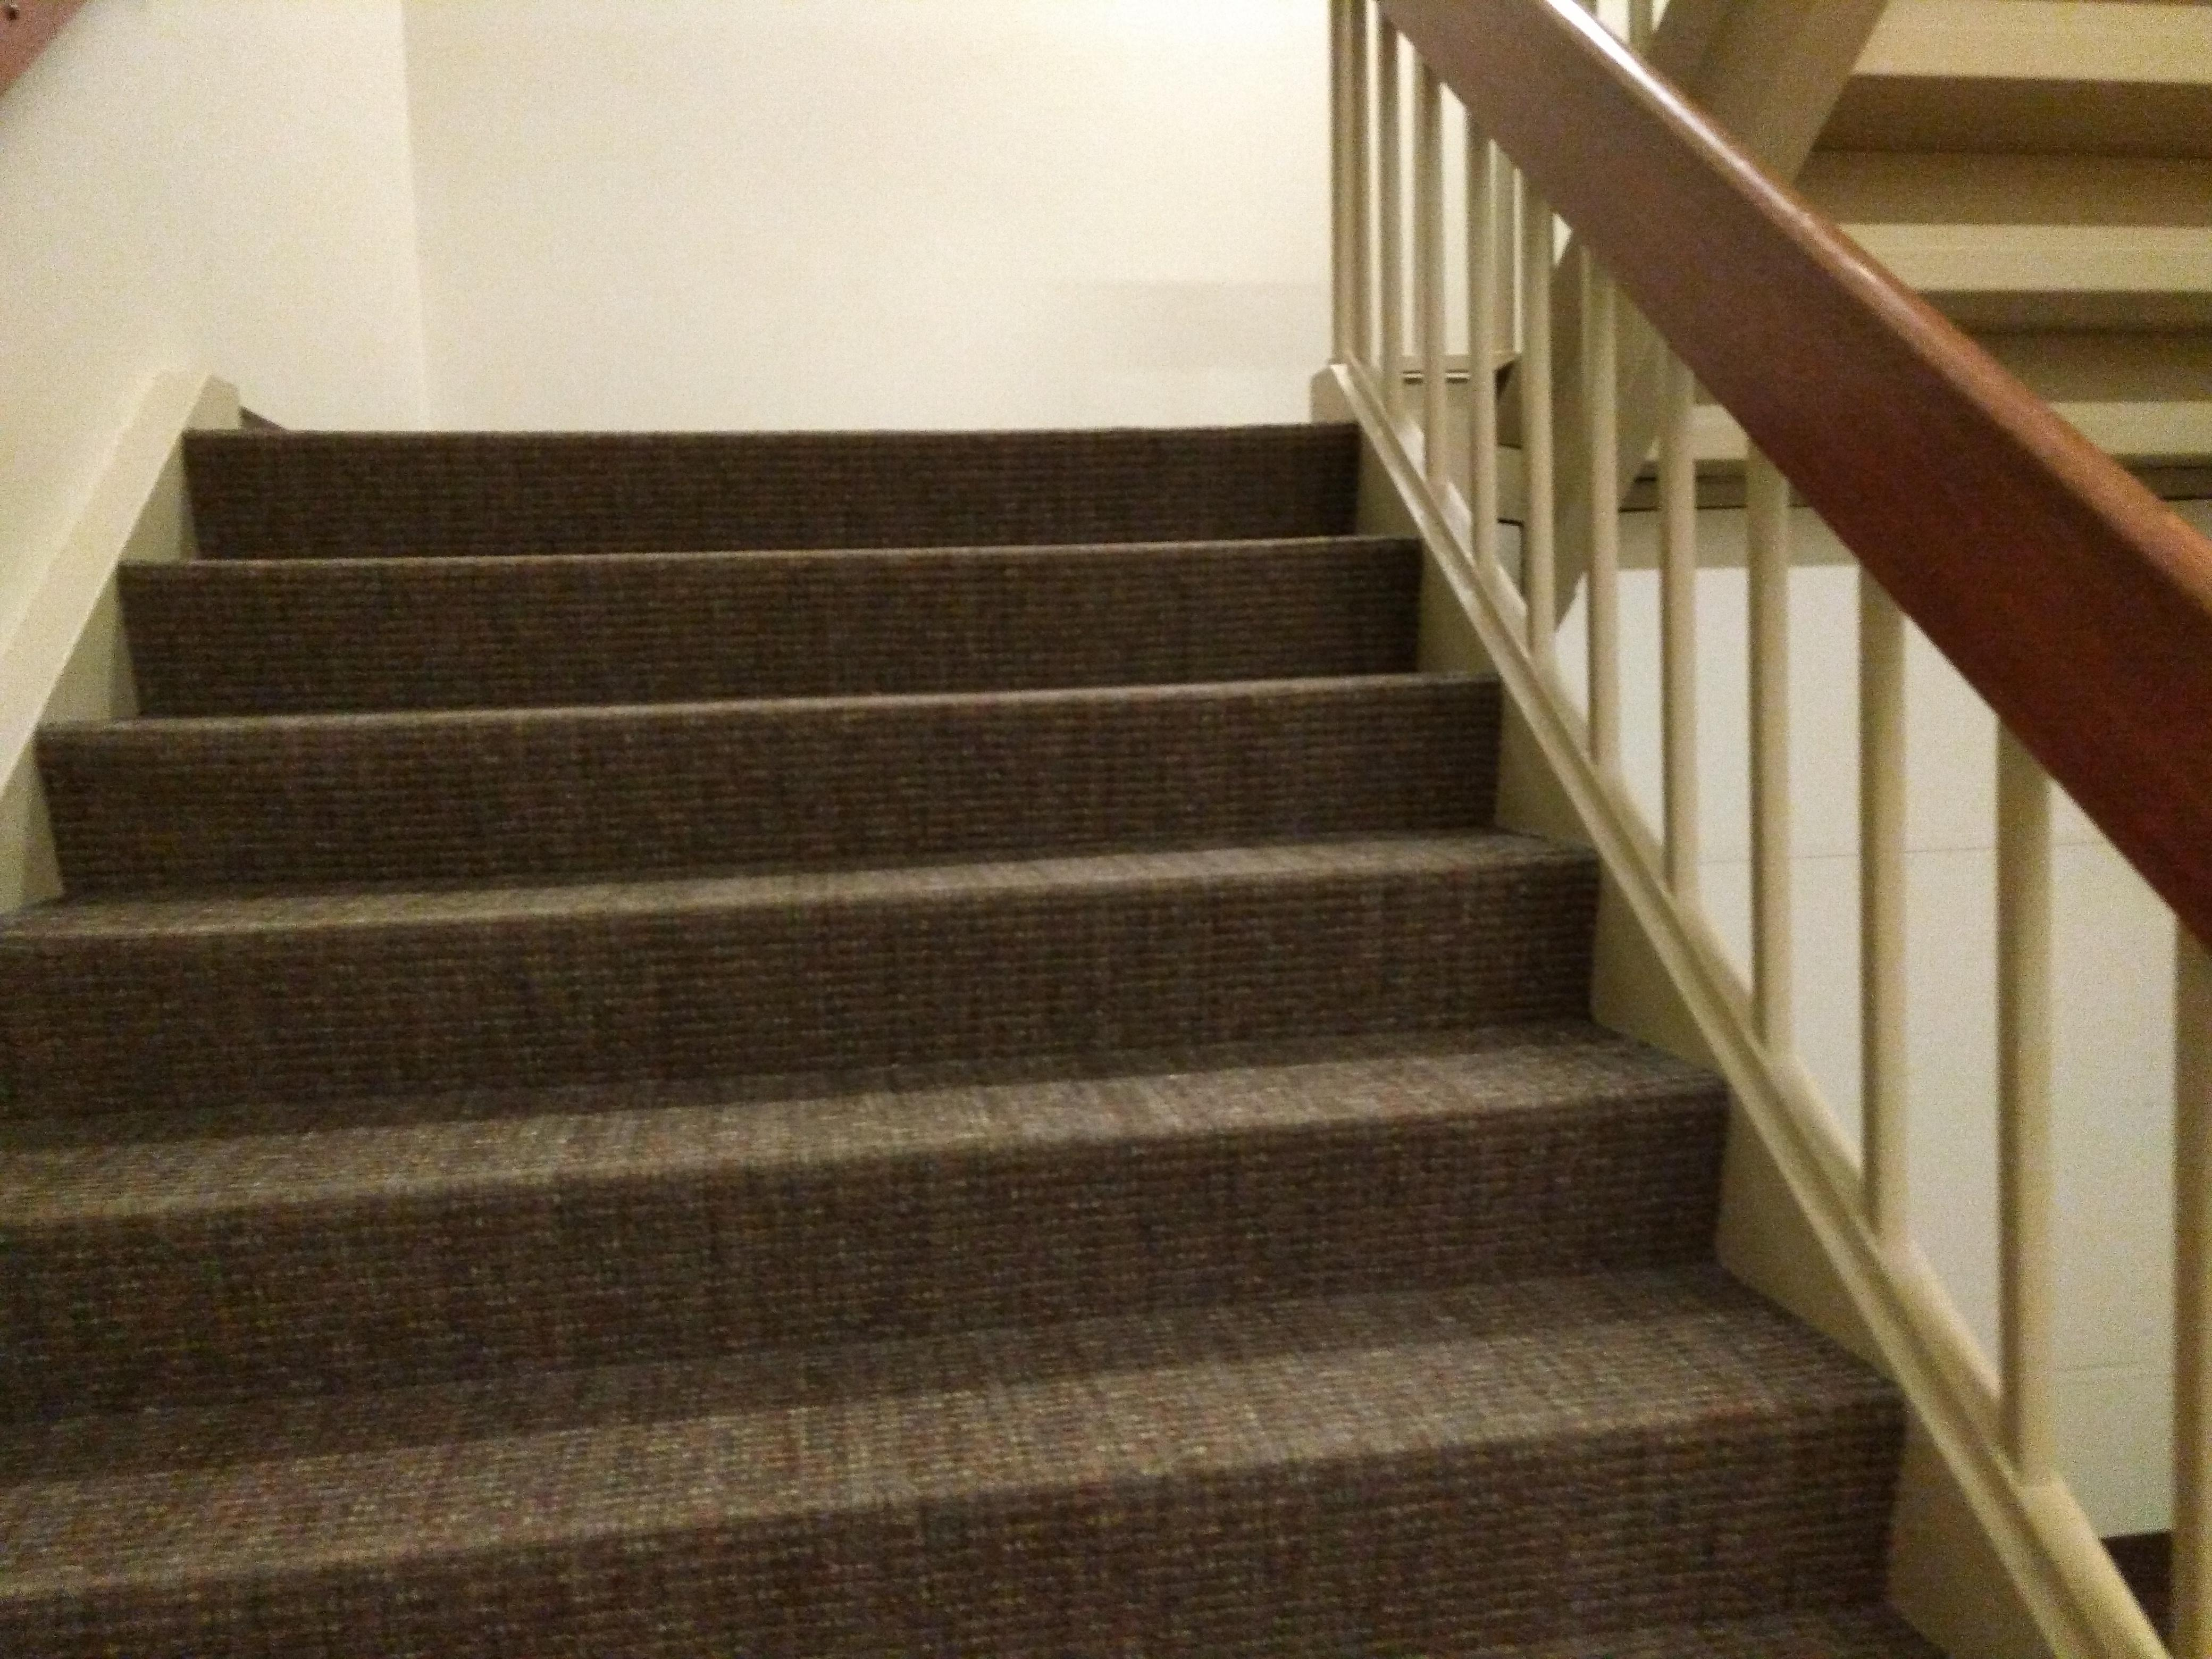stairs_up: (12, 390, 1912, 1647)
